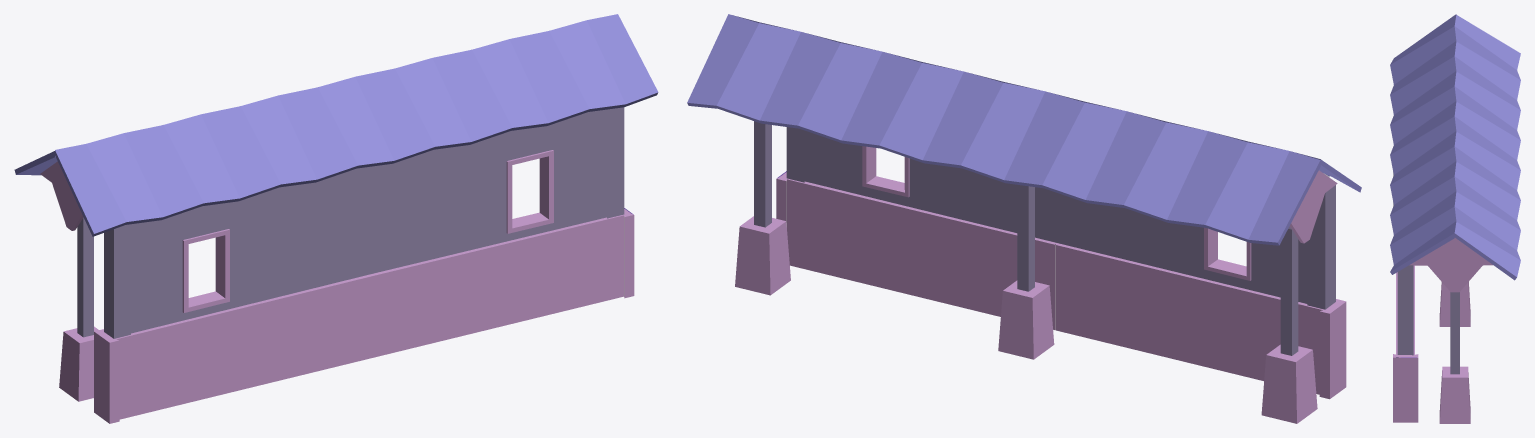
The model's file is trainShelter.obj.
3 views of the same model, side by side, from view 1: azimuth 30°, elevation 25°; view 2: azimuth 150°, elevation 25°; view 3: azimuth 270°, elevation 25° (orthographic). The views are drawn at different scales.
Parts seen in each view (by area): view 1: Cube.007_Cube.012, Cube.001_Cube.003, Cube_Cube.001, Cube.006_Cube.011; view 2: Cube.007_Cube.012, Cube.002_Cube.007, Cube_Cube.001, Cube.006_Cube.011, Cube.001_Cube.003; view 3: Cube.002_Cube.007, Cube.001_Cube.003, Cube.007_Cube.012, Cube_Cube.001, Cube.005_Cube.010.
Boxes of the visible parts, x1,y1,x2,y2 form: Cube.007_Cube.012: (94, 107, 634, 423); Cube.001_Cube.003: (55, 14, 658, 236); Cube_Cube.001: (59, 217, 98, 401); Cube.006_Cube.011: (40, 161, 83, 230); Cube.007_Cube.012: (776, 127, 1346, 399); Cube.002_Cube.007: (687, 14, 1320, 245); Cube_Cube.001: (735, 121, 1317, 423); Cube.006_Cube.011: (1290, 170, 1337, 243); Cube.001_Cube.003: (733, 15, 1361, 192); Cube.002_Cube.007: (1454, 15, 1520, 280); Cube.001_Cube.003: (1390, 14, 1456, 274); Cube.007_Cube.012: (1393, 172, 1418, 422); Cube_Cube.001: (1439, 282, 1470, 423); Cube.005_Cube.010: (1409, 238, 1492, 292).
Size of the model in its own units: 45.83 by 19.38 by 11.59.
